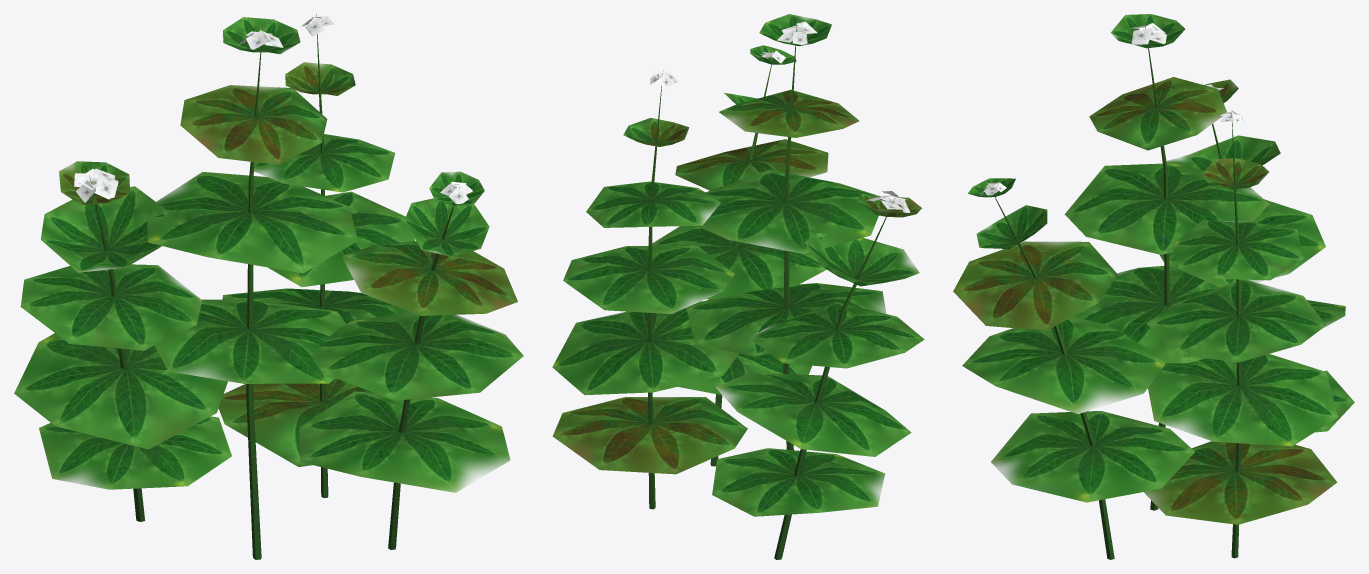
Rendered from Sweet_Woodruff_Bunch.FBX.
3 renders of one model, left to right at view 1: azimuth 30°, elevation 25°; view 2: azimuth 150°, elevation 25°; view 3: azimuth 270°, elevation 25°, orthographic. The views are drawn at different scales.
Parts seen in each view (by area): view 1: Sweet_Woodruff_Bunch; view 2: Sweet_Woodruff_Bunch; view 3: Sweet_Woodruff_Bunch.
Boxes of the visible parts, x1=… form: Sweet_Woodruff_Bunch: x1=14, y1=14, x2=523, y2=559; Sweet_Woodruff_Bunch: x1=552, y1=14, x2=924, y2=559; Sweet_Woodruff_Bunch: x1=953, y1=14, x2=1354, y2=559.
Size of the model in its own units: 119 by 157 by 116.
